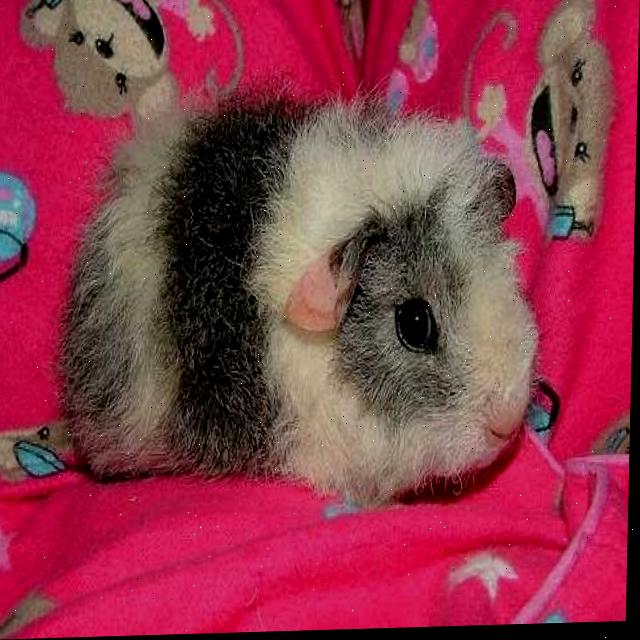guinea pig: (73, 104, 545, 507)
